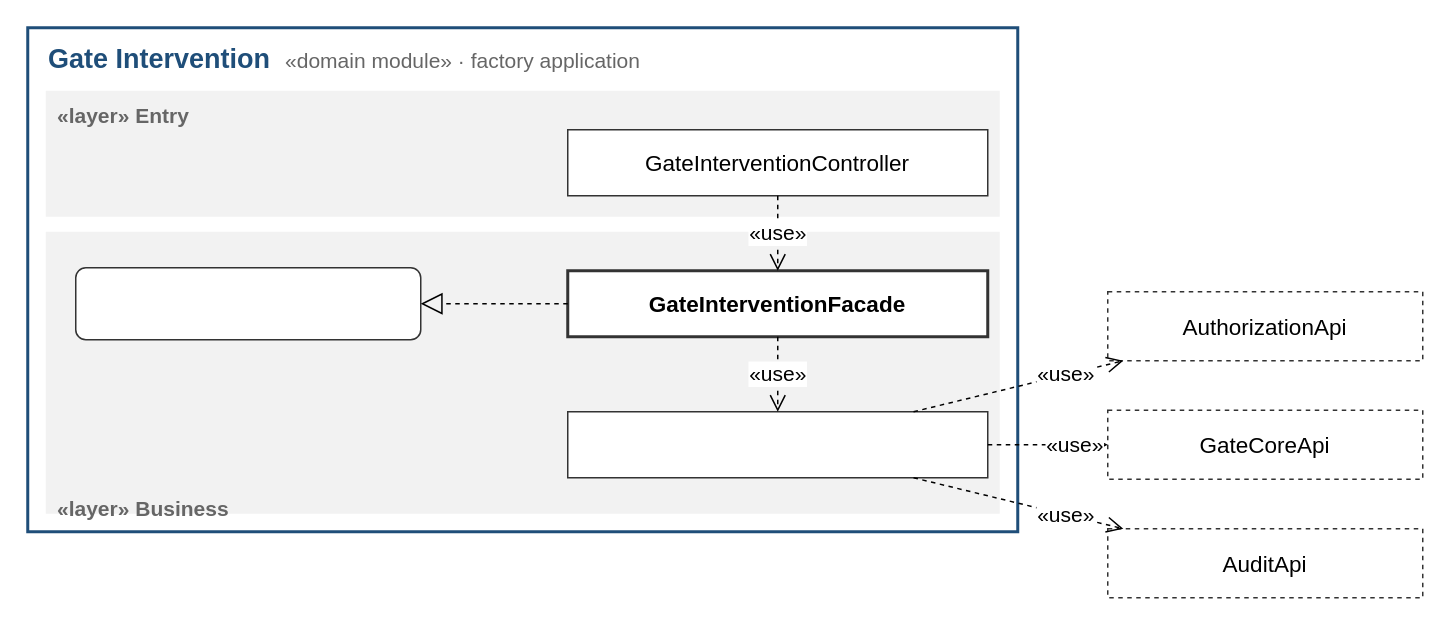
Some shapes in this 1449 by 624 pixel diagram are drawn without their labels. The shapes that lost their labels are listed below. From the top down, each one's box as (x1, y1, x2, y2) in pixels, then its label:
(74, 266, 421, 340): «interface» GateInterventionApi
(566, 410, 988, 478): InterventionService
